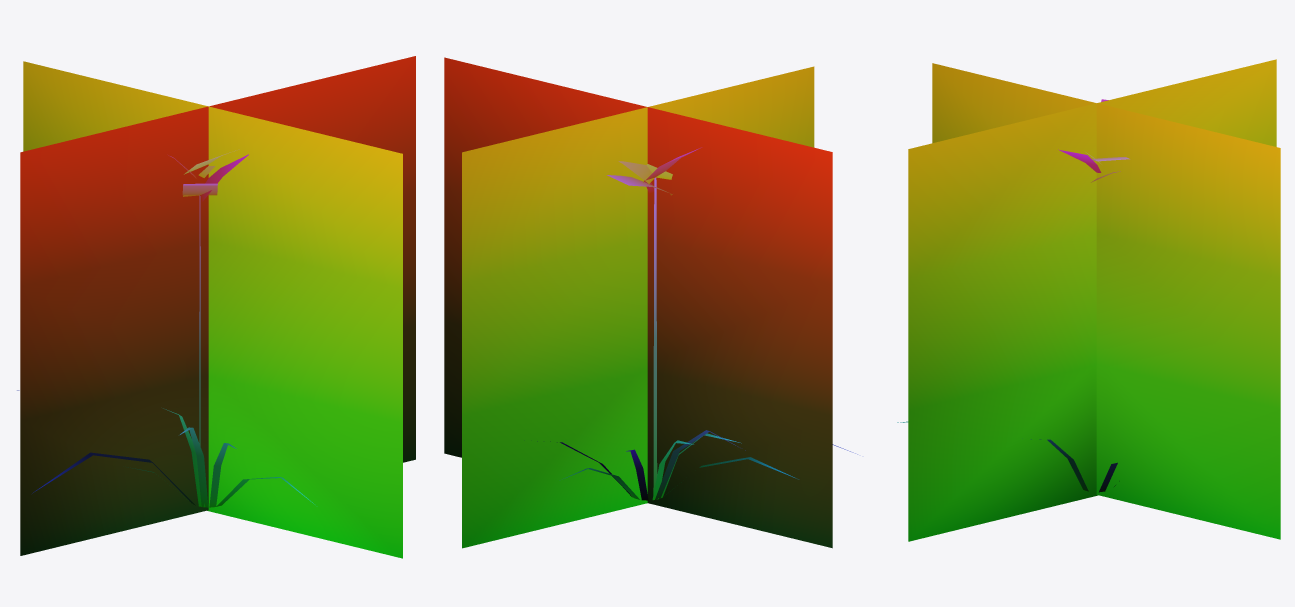
File: Grass_Sedge_B.fbx
The picture shows the model from 3 angles, left to right: view 1: azimuth 30°, elevation 25°; view 2: azimuth 150°, elevation 25°; view 3: azimuth 270°, elevation 25°; orthographic projection. The views are drawn at different scales.
Parts seen in each view (by area): view 1: Grass_Sedge_B_LOD0; view 2: Grass_Sedge_B_LOD0; view 3: Grass_Sedge_B_LOD0.
Boxes of the visible parts, x1,y1,x2,y2 form: Grass_Sedge_B_LOD0: [17, 56, 415, 558]; Grass_Sedge_B_LOD0: [444, 57, 857, 548]; Grass_Sedge_B_LOD0: [897, 59, 1280, 541].
Size of what is drawn, in the model's own units: 0.6103 by 0.5789 by 0.5159.
